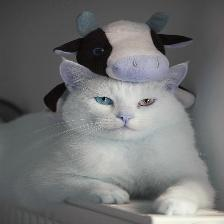kedo: (0, 57, 223, 213)
